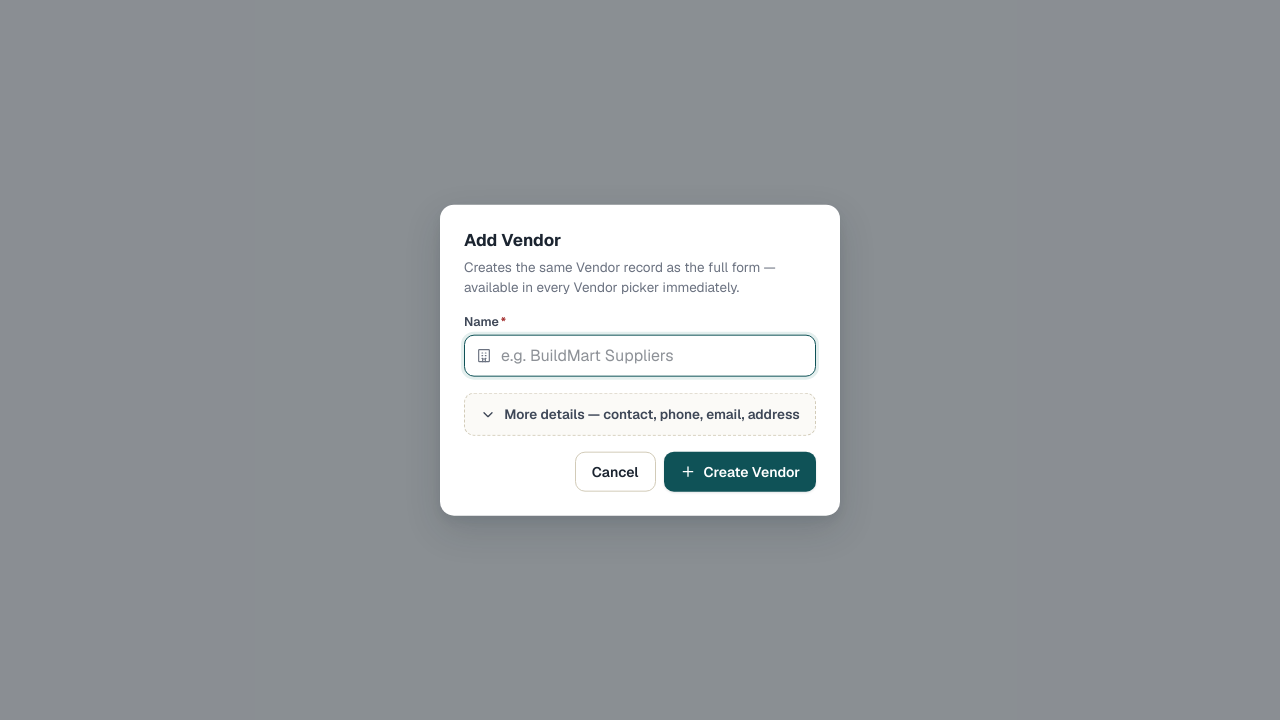
VendorQuickCreateModal › keeps typed values and shows the inline error when the action returns a validation error
Type "Duplicate Vendor" into the field labelled "Name" at [640, 356], box [464, 335, 816, 377]
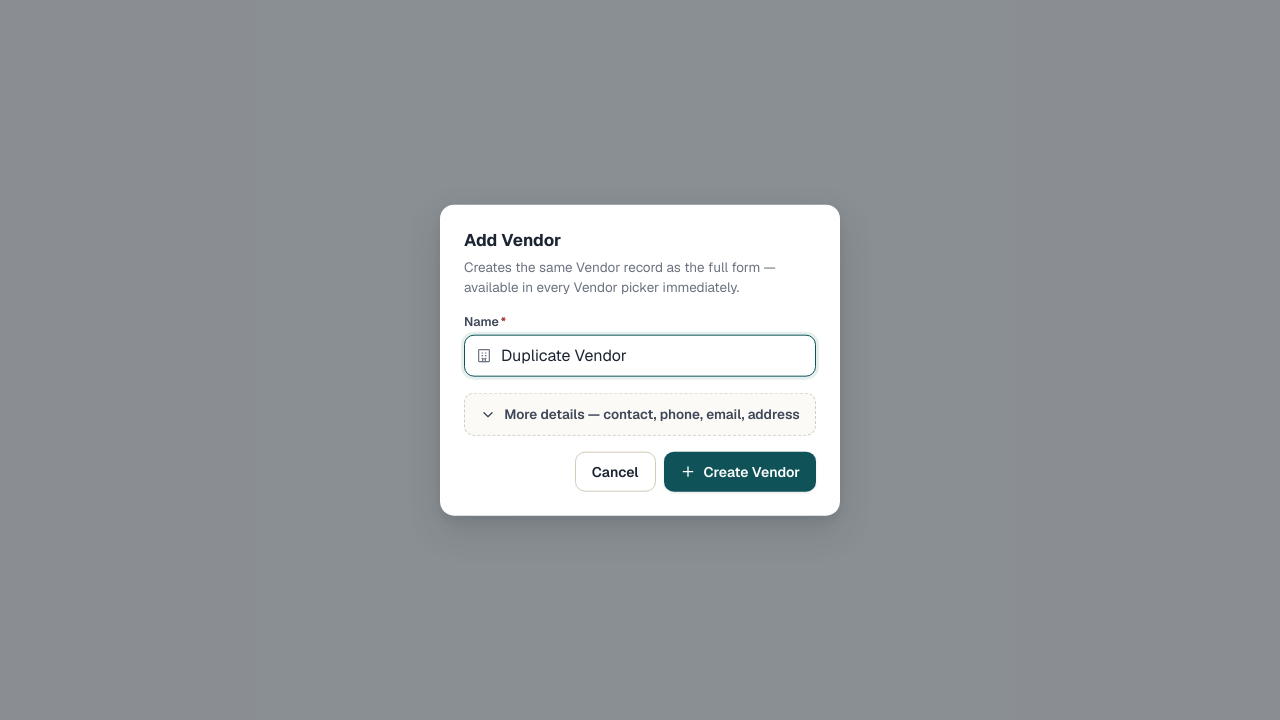
Click the button "Create Vendor" at [740, 471], box [664, 451, 816, 491]
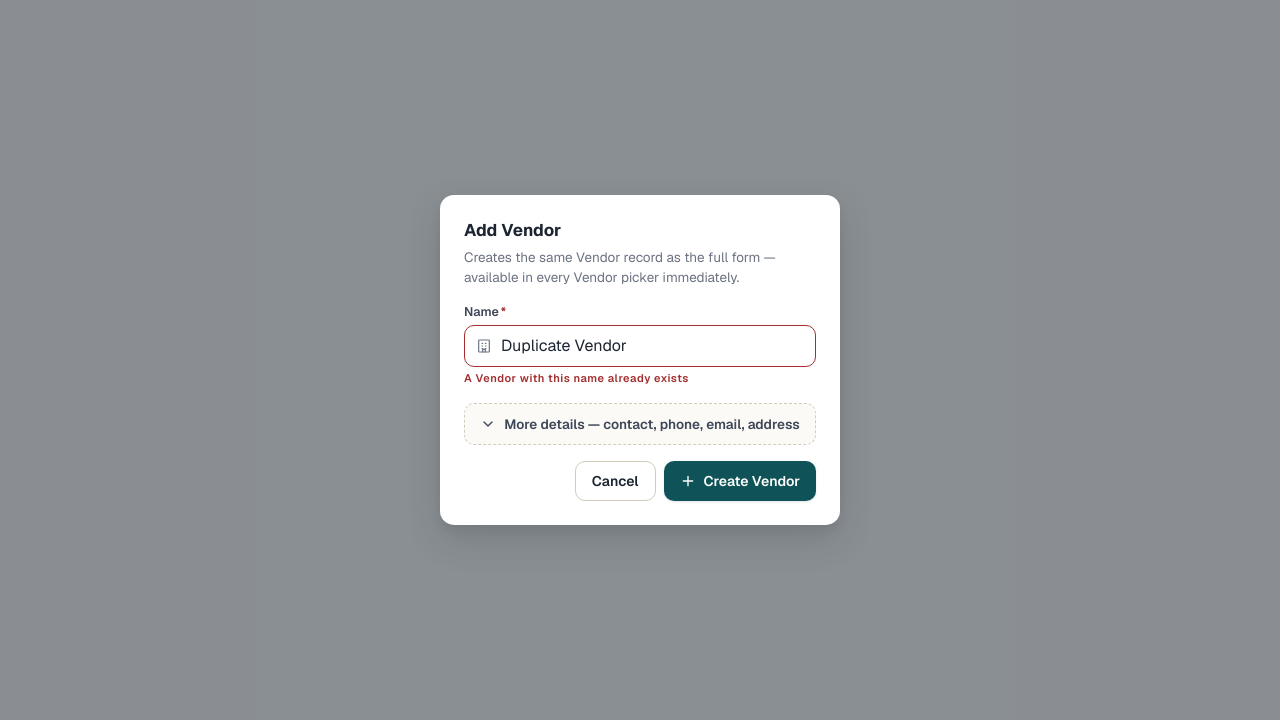
Now the text "A Vendor with this name already exists" is shown, box [464, 371, 689, 385]
